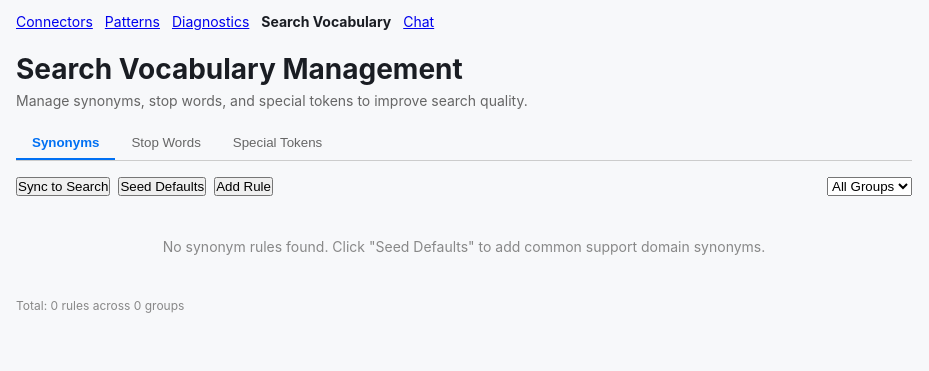
Test: SynonymManagementPage › displays stop words in table
The image size is (929, 371).
Step 1. Click the button "Stop Words" → (166, 144), box x1=115 y1=127 x2=217 y2=160
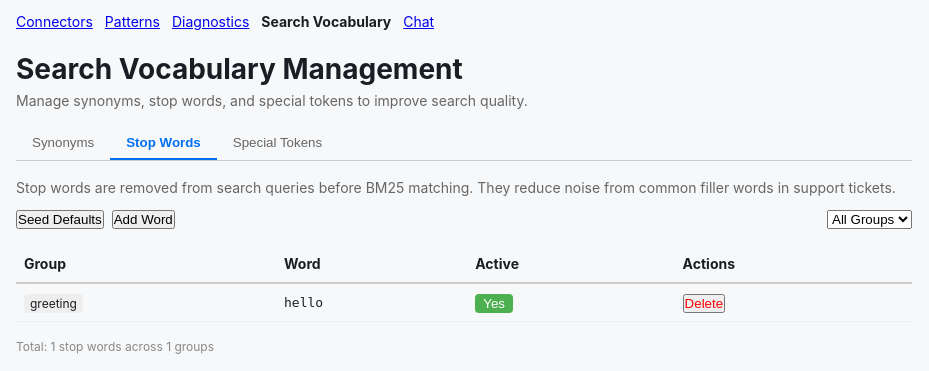
Now the text "hello" is shown, box x1=276 y1=283 x2=467 y2=322
